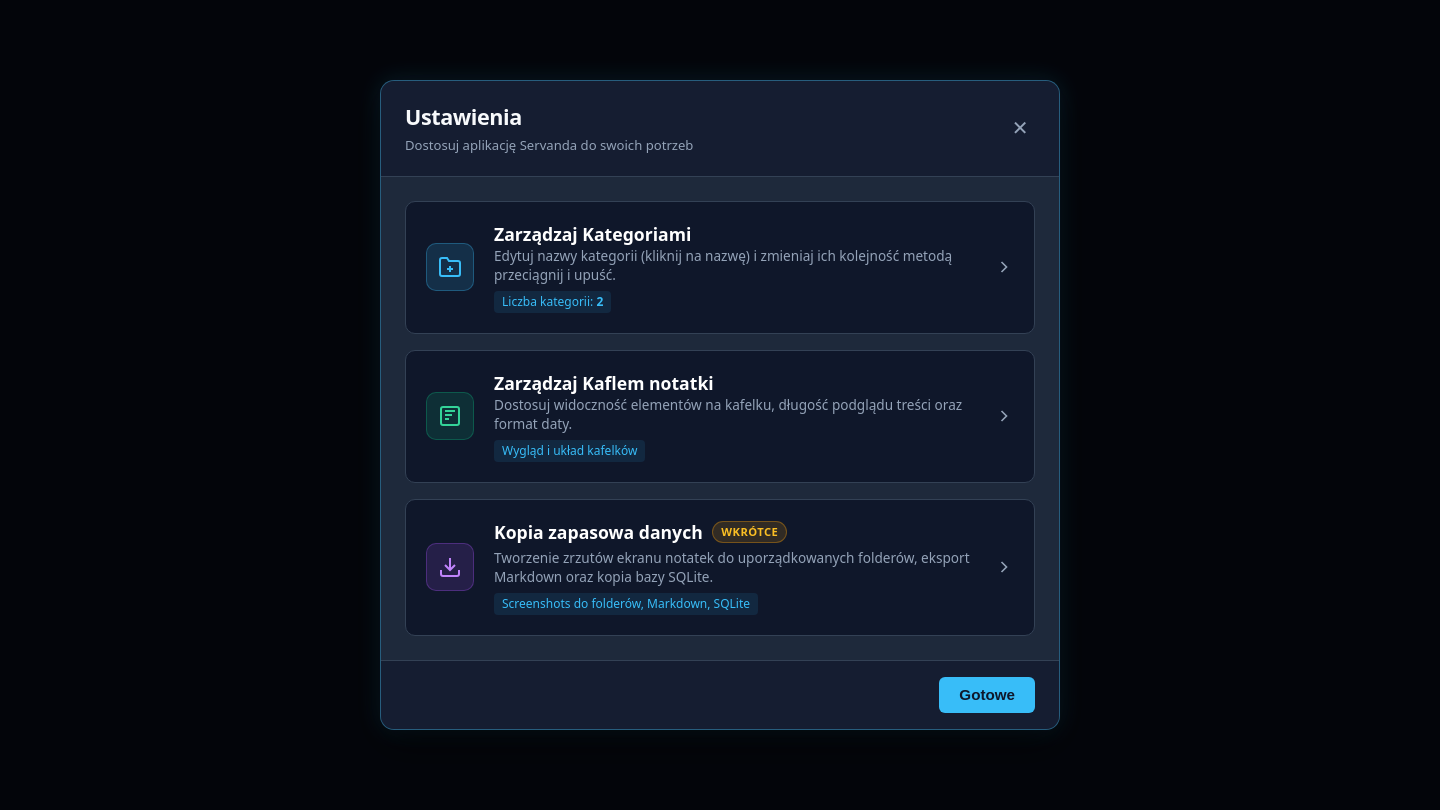
SettingsModal › navigates to "Zarządzaj Kategoriami" view and back
The width and height of the screenshot is (1440, 810).
Click the button with test id "settings-option-categories" at (720, 267), box [405, 201, 1035, 334]
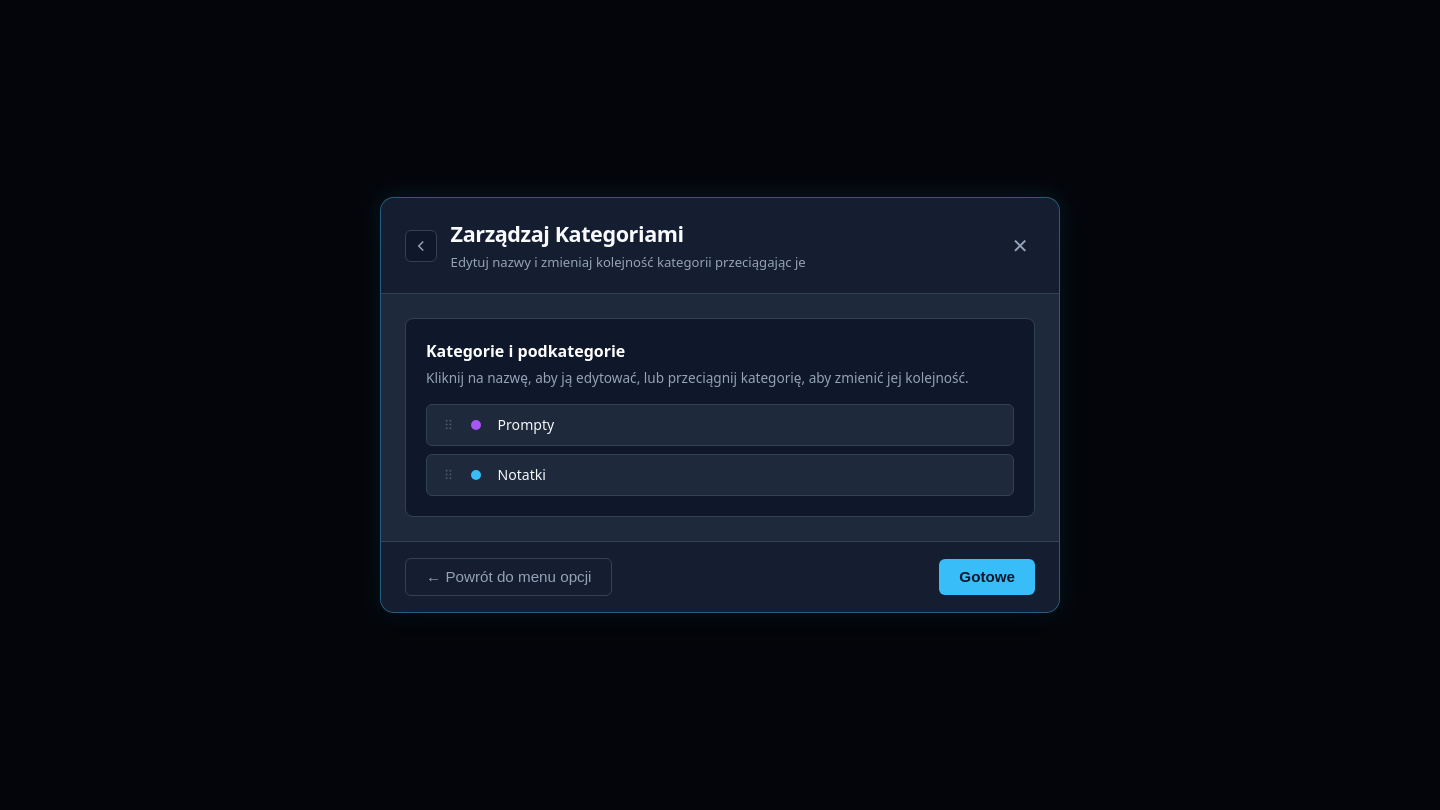
Check: the heading "Zarządzaj Kategoriami" is shown, box [451, 219, 684, 248]
Check: the element with test id "settings-subview-categories" is shown, box [405, 318, 1035, 516]
Check: the text "Prompty" is shown, box [498, 415, 554, 434]
// Click back button
Click the button named "Wróć do listy opcji" at (421, 246), box [405, 230, 437, 262]
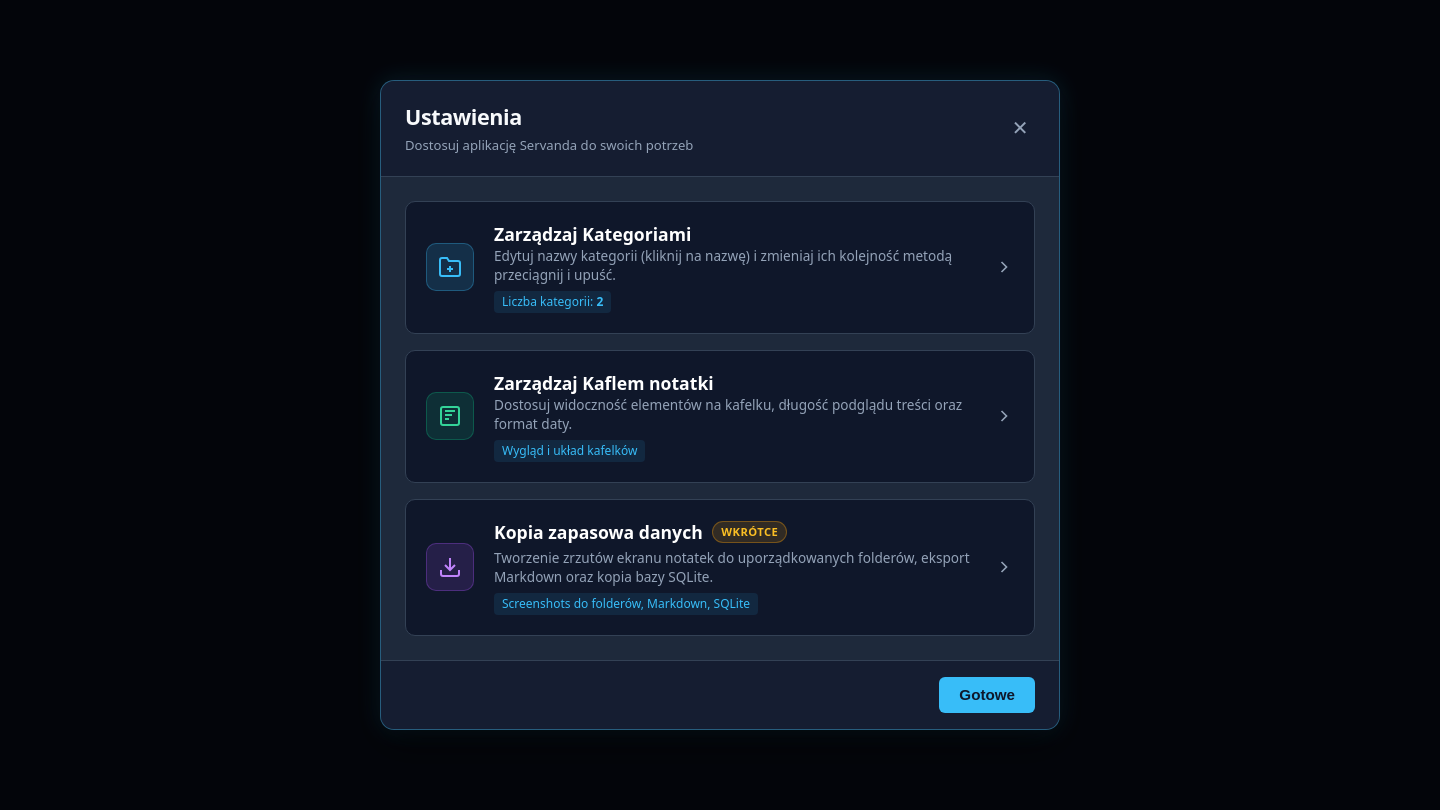
Check: the heading "Ustawienia" is shown, box [405, 102, 522, 131]
Check: the button with test id "settings-option-categories" is shown, box [405, 201, 1035, 334]
